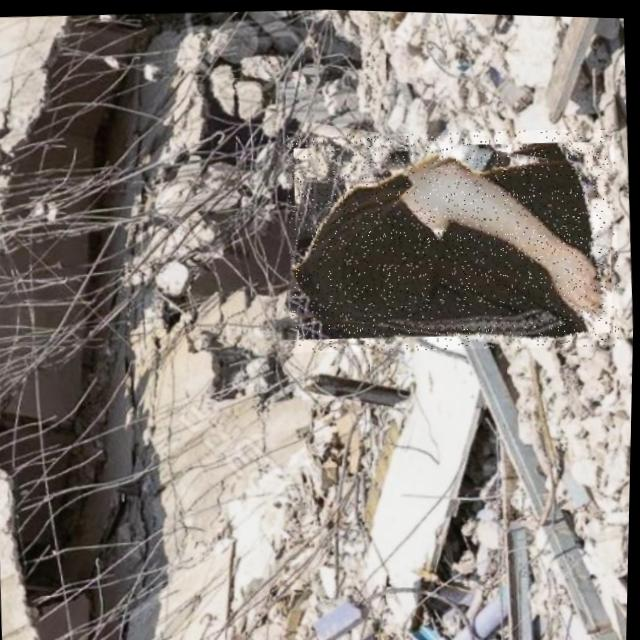Person in Rubble: (283, 116, 626, 358)
